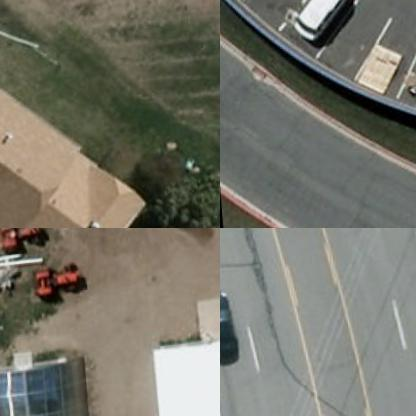car: (220, 286, 243, 368)
tractor: (27, 262, 85, 300), (0, 228, 50, 255)
van: (285, 0, 360, 42)
